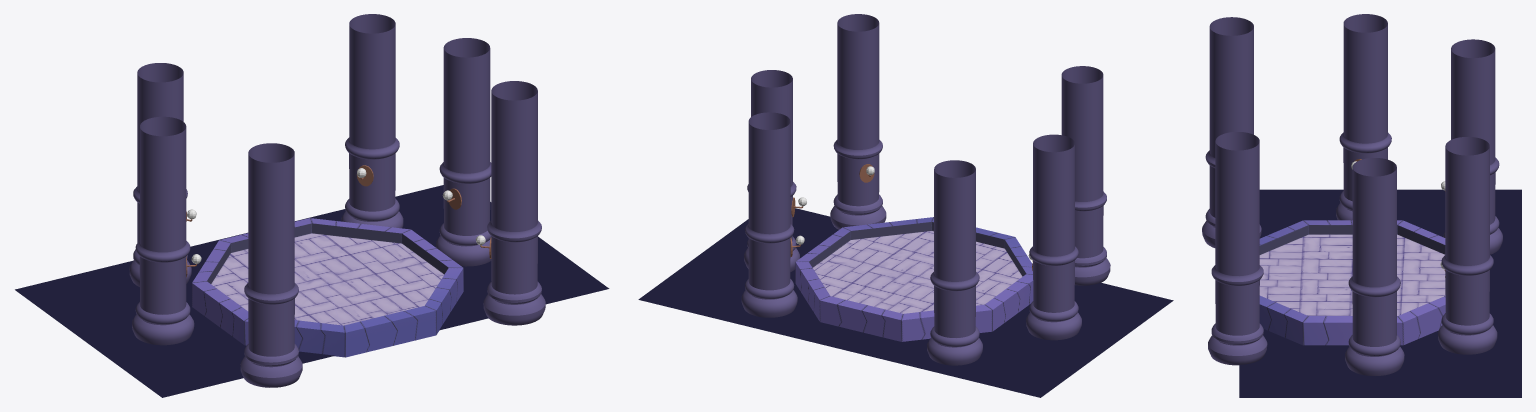
The model's file is Cenario_semluz.fbx.
The picture shows the model from 3 angles, left to right: view 1: azimuth 30°, elevation 25°; view 2: azimuth 150°, elevation 25°; view 3: azimuth 270°, elevation 25°; orthographic projection. The views are drawn at different scales.
Parts seen in each view (by area): view 1: arena, chão, pilastra frente, frente_pilastra, pilastra meio, meio_pilastra, atras_pilastra, pilastra atras; view 2: chão, arena, frente_pilastra, atras_pilastra, pilastra meio, pilastra atras, pilastra frente, meio_pilastra; view 3: chão, arena, frente_pilastra, meio_pilastra, atras_pilastra, pilastra meio, pilastra frente, pilastra atras.
Boxes of the visible parts, x1=… form: arena: x1=192, y1=218, x2=463, y2=357; chão: x1=15, y1=185, x2=609, y2=397; pilastra frente: x1=240, y1=143, x2=302, y2=387; frente_pilastra: x1=483, y1=81, x2=545, y2=325; pilastra meio: x1=132, y1=116, x2=194, y2=345; meio_pilastra: x1=436, y1=38, x2=491, y2=266; atras_pilastra: x1=341, y1=14, x2=403, y2=228; pilastra atras: x1=129, y1=63, x2=191, y2=286; chão: x1=638, y1=208, x2=1173, y2=397; arena: x1=795, y1=217, x2=1033, y2=341; frente_pilastra: x1=830, y1=14, x2=886, y2=229; atras_pilastra: x1=741, y1=112, x2=797, y2=317; pilastra meio: x1=1026, y1=134, x2=1081, y2=340; pilastra atras: x1=927, y1=160, x2=982, y2=365; pilastra frente: x1=1061, y1=66, x2=1110, y2=285; meio_pilastra: x1=744, y1=70, x2=799, y2=271; chão: x1=1239, y1=189, x2=1521, y2=397; arena: x1=1259, y1=220, x2=1445, y2=345; frente_pilastra: x1=1208, y1=132, x2=1267, y2=365; meio_pilastra: x1=1345, y1=158, x2=1404, y2=375; atras_pilastra: x1=1438, y1=136, x2=1497, y2=354; pilastra meio: x1=1336, y1=14, x2=1391, y2=220; pilastra frente: x1=1202, y1=17, x2=1261, y2=247; pilastra atras: x1=1443, y1=39, x2=1502, y2=254.
Bounding box in the file's own units: 2107 × 1003 × 1366.
